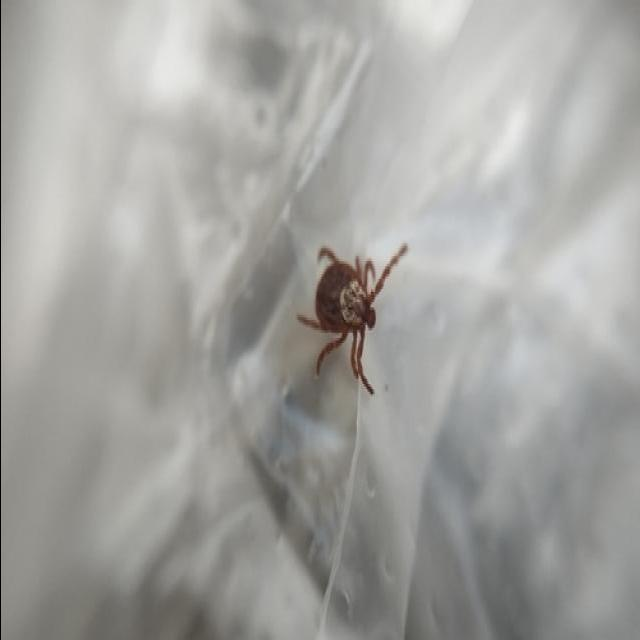Dermacentor Reticulatus-F: (296, 241, 407, 394)
